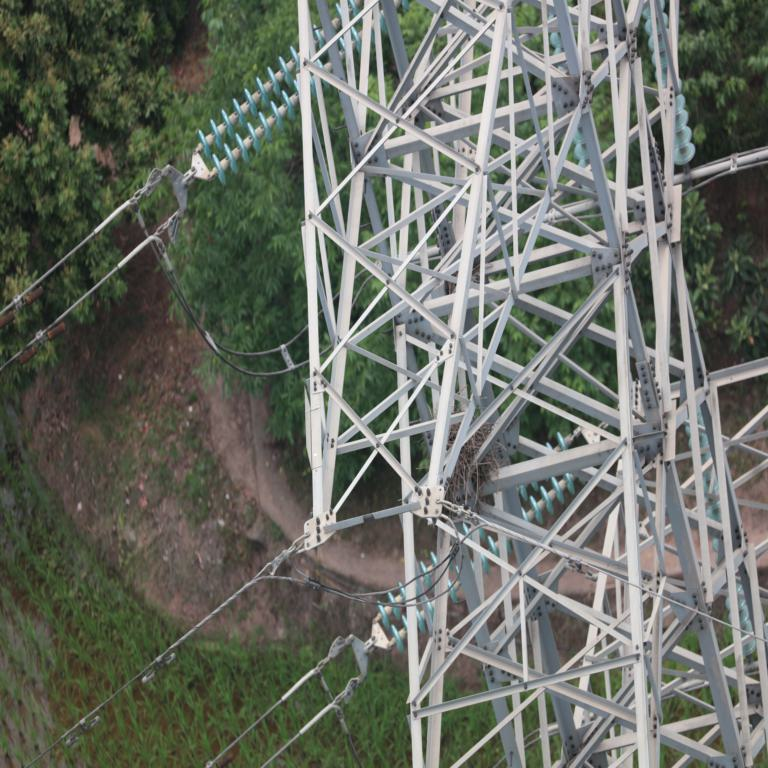nest: (434, 416, 505, 504)
